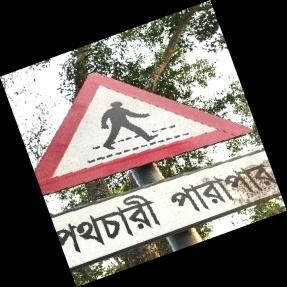Pedestrian-crossing: (34, 68, 282, 268)
